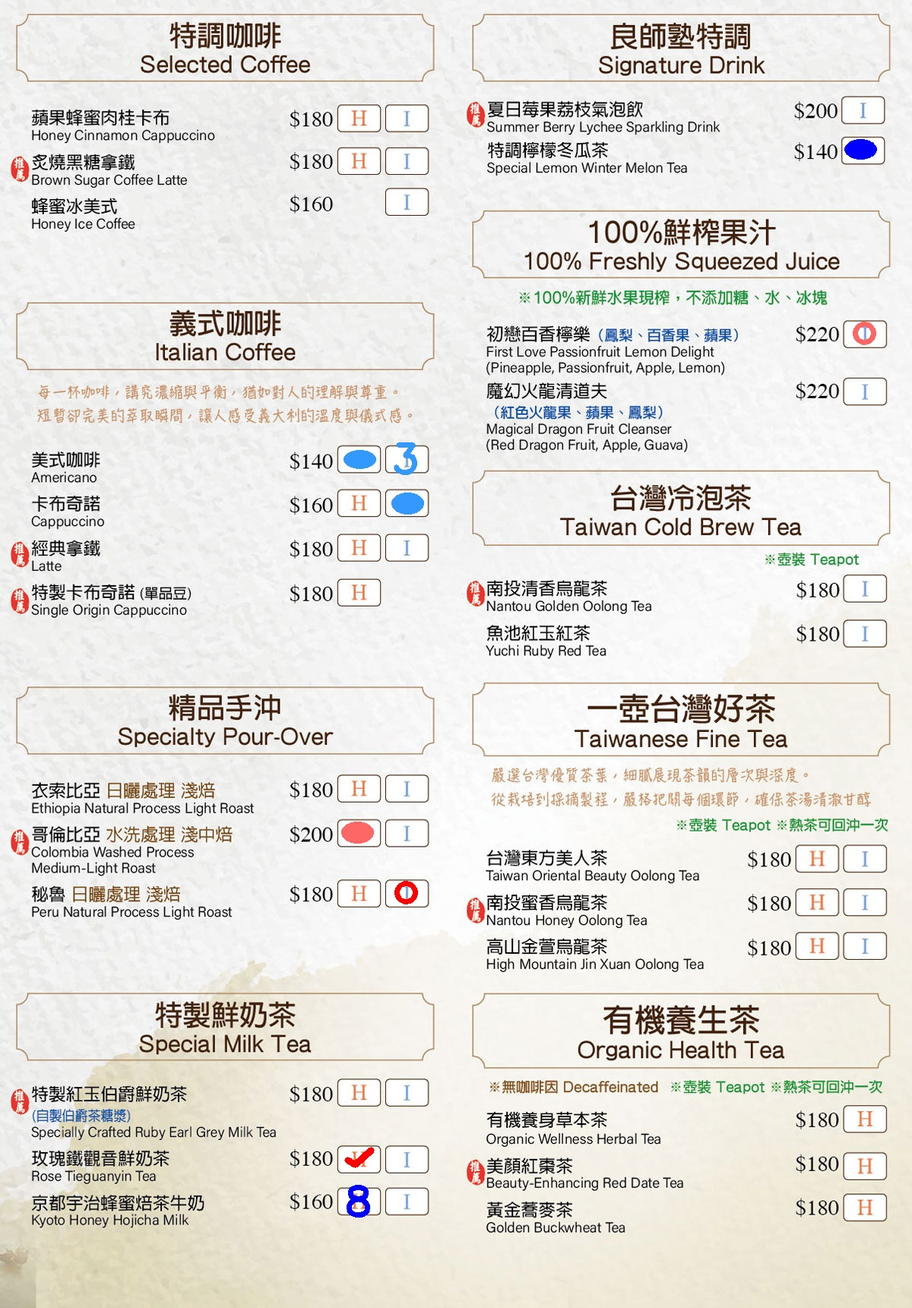marked_circle: (842, 138, 881, 162), (388, 491, 426, 515), (339, 822, 378, 845), (340, 447, 378, 470)
marked_hollow: (845, 321, 884, 345), (387, 881, 426, 904)
marked_number_3: (388, 446, 426, 470)
marked_number_8: (340, 1189, 379, 1212)
marked_tick: (340, 1146, 379, 1170)
